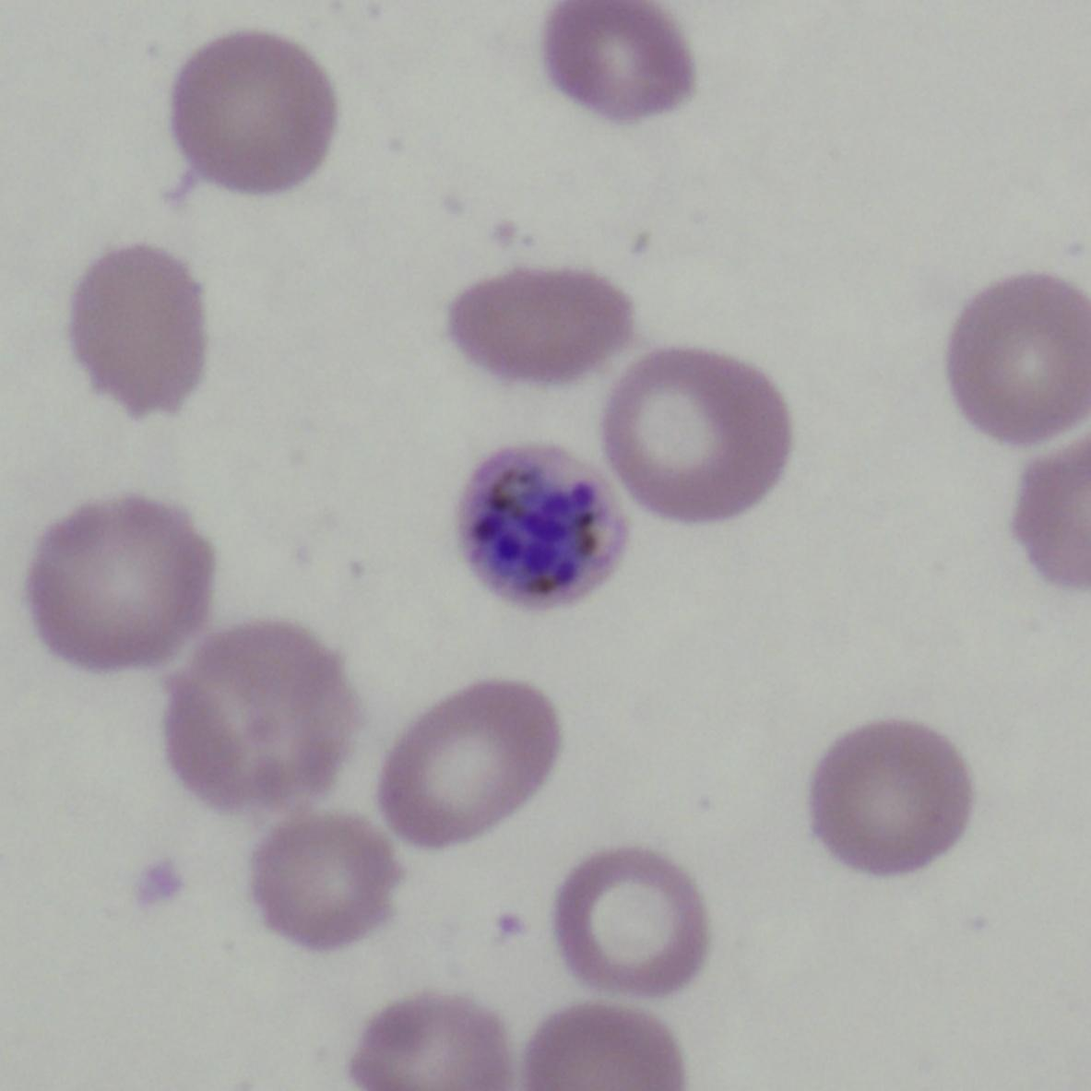Infected: (452, 441, 628, 612)
Uninfected: (169, 616, 364, 813), (28, 487, 220, 672), (599, 348, 784, 522), (381, 677, 563, 846), (802, 714, 974, 883), (172, 23, 331, 202), (944, 265, 1091, 444), (443, 265, 649, 385), (553, 843, 704, 1006), (74, 244, 212, 417), (544, 0, 694, 137), (249, 813, 397, 951), (360, 979, 511, 1091)
